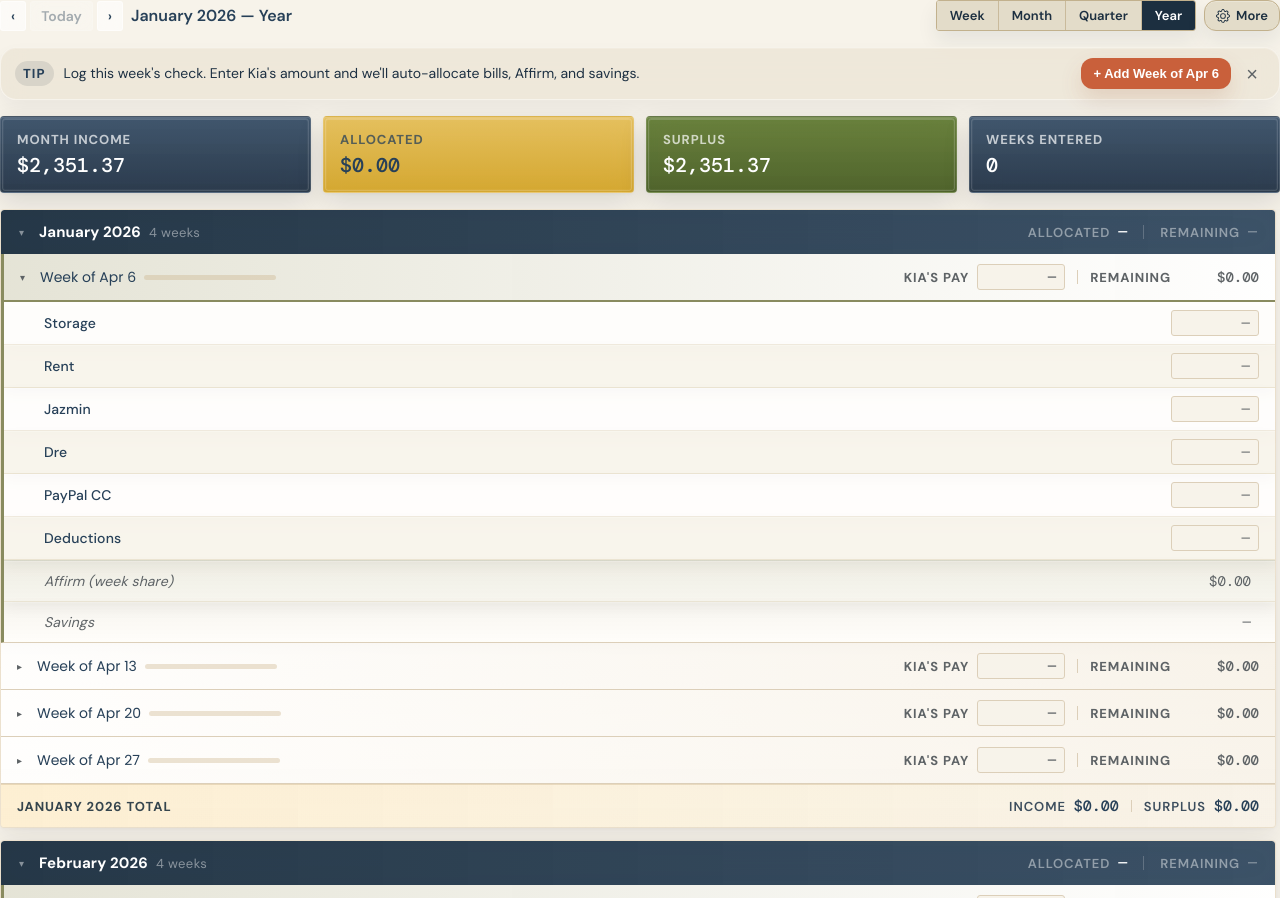
Test: PaycheckTab — navigation › allows yearly view to land on the Dec 2025 data boundary
Click the button named "Previous month" at (13, 16), box 0,0 -> 26,30
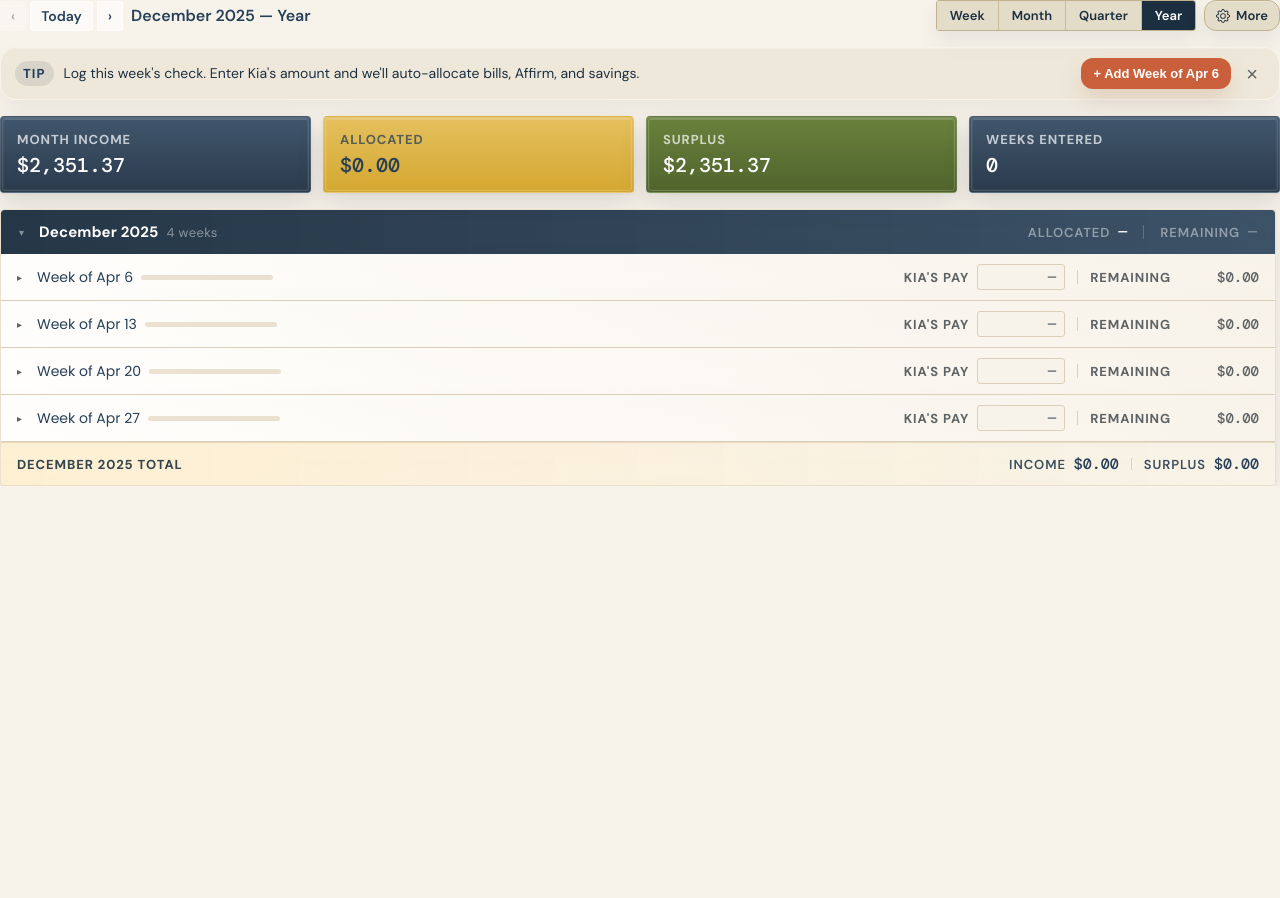
Now the heading "December 2025 — Year" is shown, box 131,5 -> 311,26
